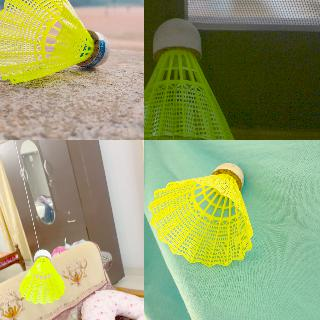shuttlecock: (144, 17, 241, 139), (148, 163, 252, 267), (0, 0, 110, 83), (19, 250, 65, 304)
